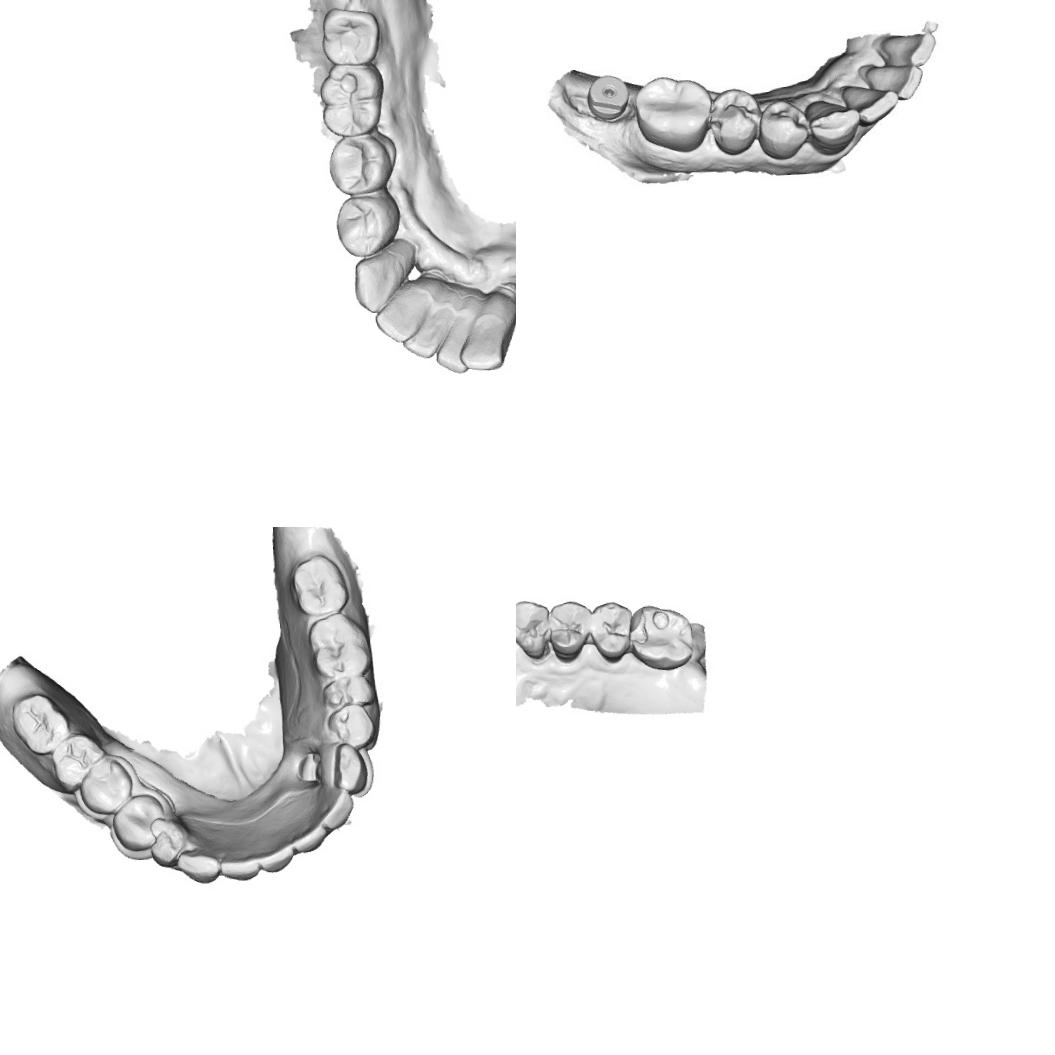canine: (350, 248, 408, 315), (807, 97, 863, 155), (327, 739, 372, 796), (172, 840, 222, 886), (516, 597, 550, 661)
implant: (584, 74, 630, 128)
incisor: (371, 282, 434, 345), (398, 299, 460, 362), (454, 308, 514, 371), (433, 306, 481, 376), (306, 786, 358, 834), (870, 62, 926, 104), (878, 27, 932, 67), (847, 80, 892, 126), (253, 837, 298, 874), (287, 817, 330, 855), (218, 846, 262, 882)
molar: (632, 71, 713, 147), (317, 60, 387, 137), (627, 600, 695, 674), (304, 611, 370, 681), (288, 550, 354, 618), (9, 688, 74, 756), (316, 4, 384, 66), (46, 728, 108, 792)
premolar: (331, 190, 402, 260), (324, 132, 393, 194), (708, 84, 763, 153), (75, 754, 134, 816), (110, 790, 166, 852), (760, 94, 812, 159), (545, 598, 594, 664), (589, 600, 634, 664), (316, 670, 376, 716), (326, 702, 378, 751)
